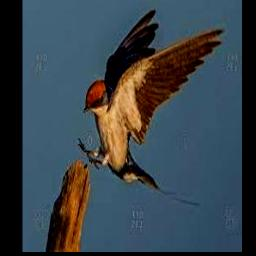Swallow: (78, 9, 228, 206)
